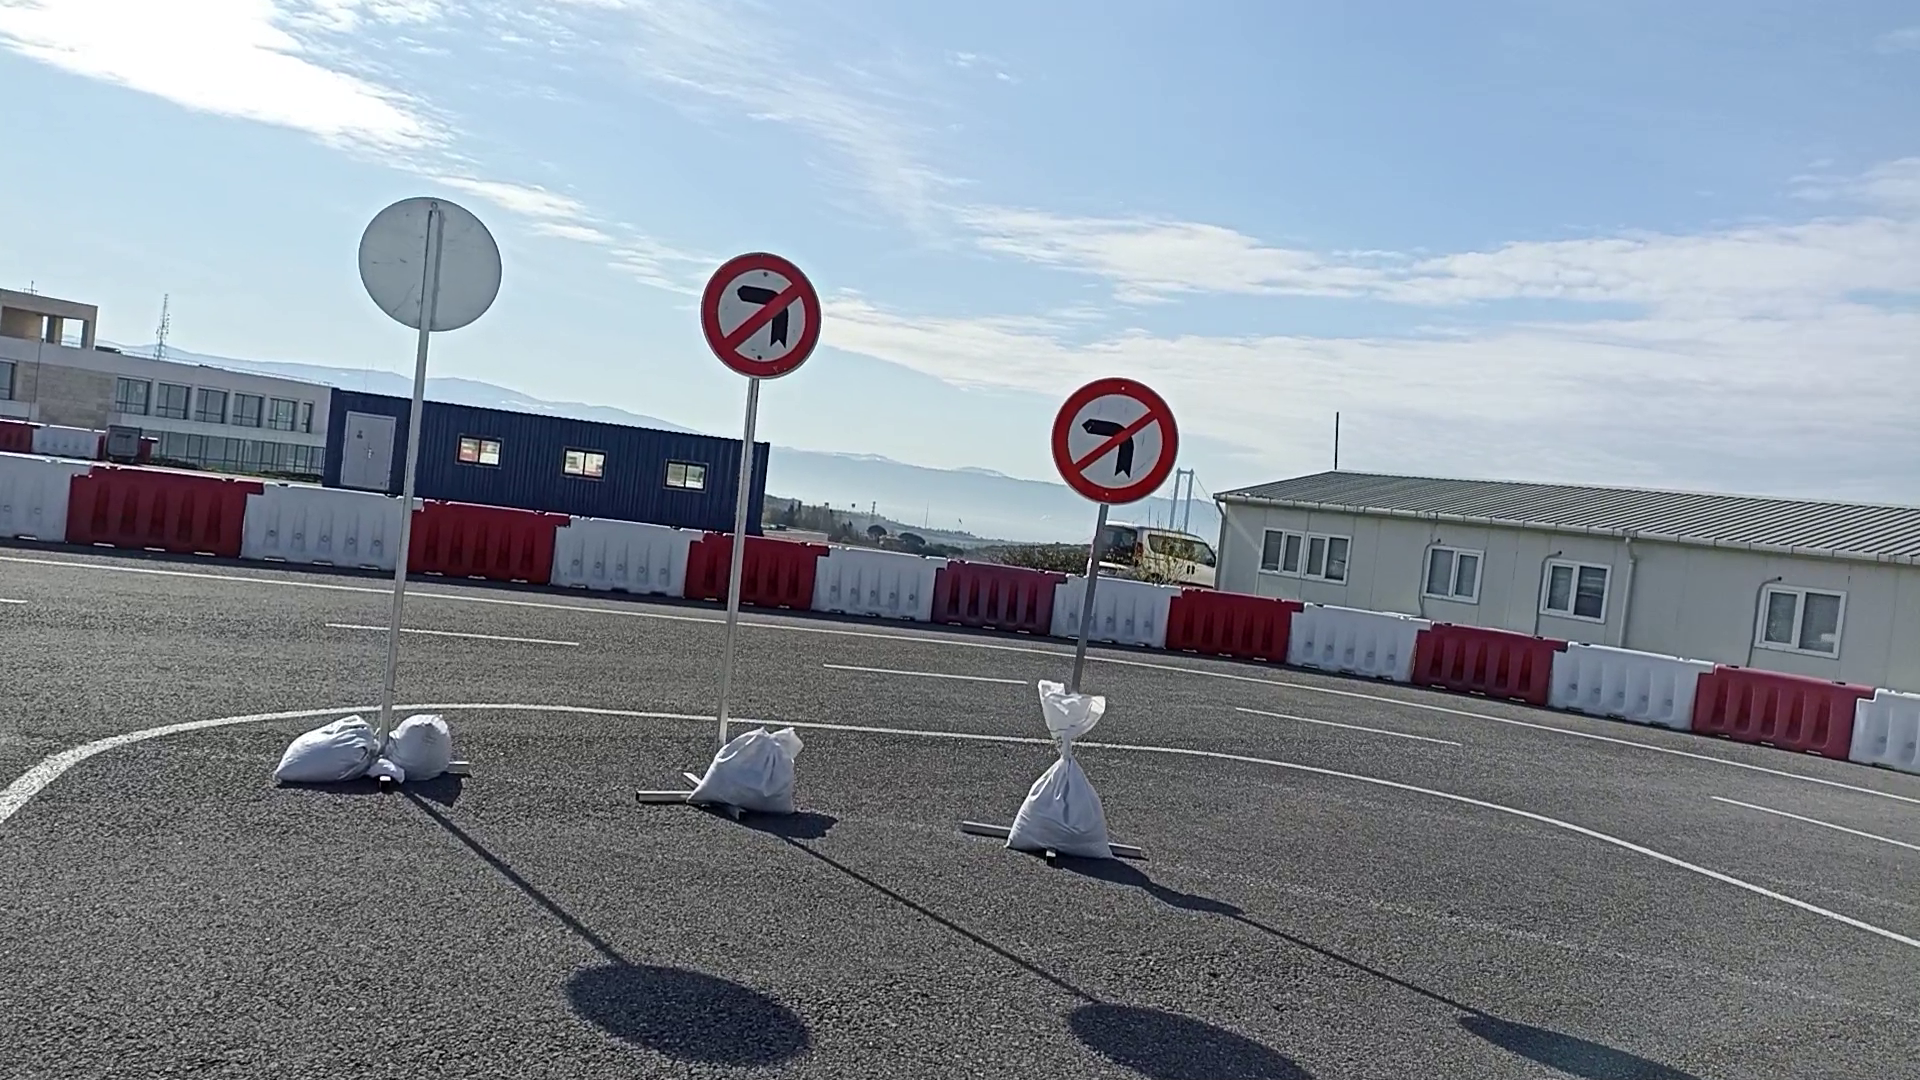noleft: (1048, 375, 1180, 506), (700, 251, 823, 380)
